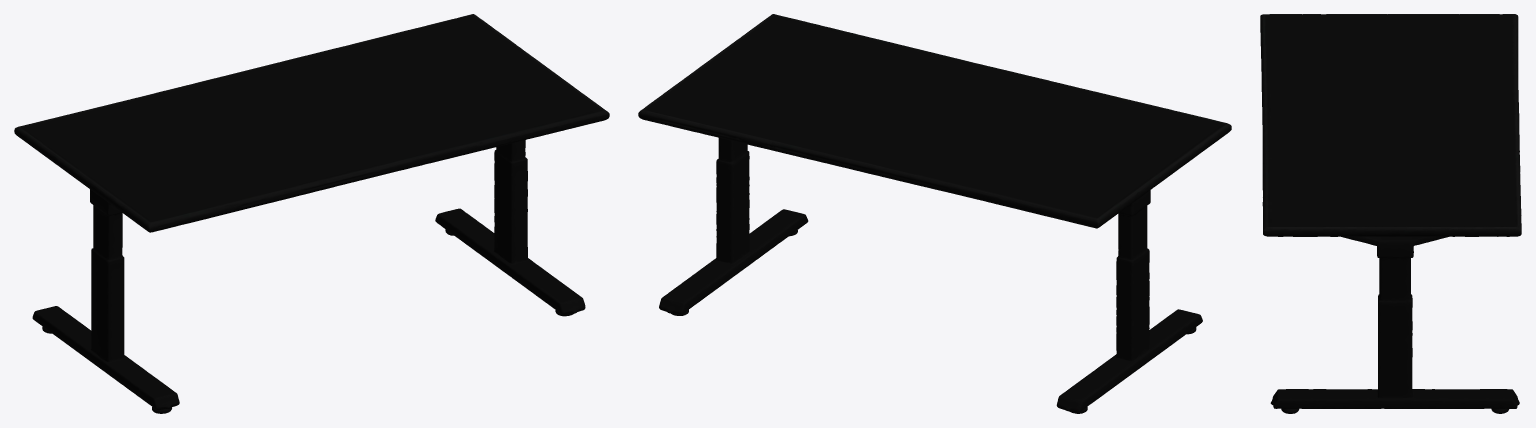
File: 03-trellis2-desk.glb
3 renders of one model, left to right at view 1: azimuth 30°, elevation 25°; view 2: azimuth 150°, elevation 25°; view 3: azimuth 270°, elevation 25°, orthographic. The views are drawn at different scales.
Visible parts, largest first — view 1: world; view 2: world; view 3: world.
Part boxes in pixels (x1=…): world: x1=14, y1=14, x2=609, y2=413; world: x1=638, y1=14, x2=1231, y2=413; world: x1=1260, y1=14, x2=1521, y2=413.
Size of the model in its own units: 1 by 0.4253 by 0.5128.
1 material, 1 textured.
